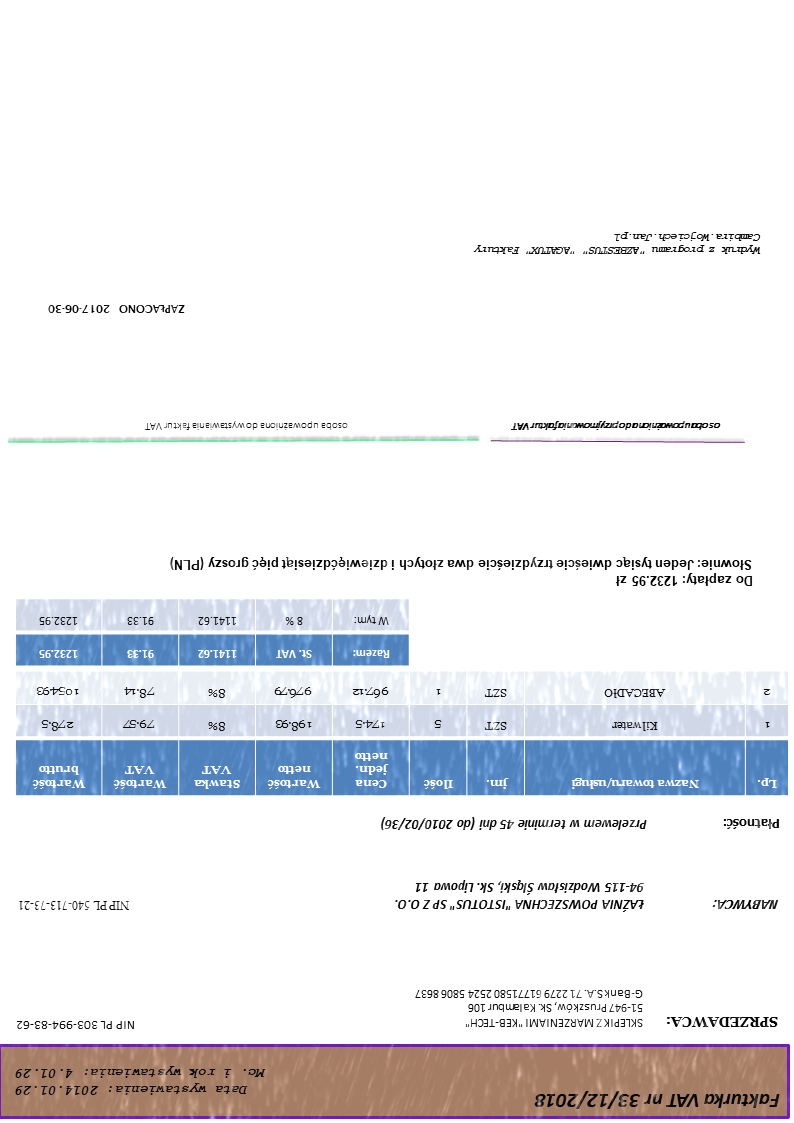Table: (15, 672, 791, 799), (15, 597, 412, 668)
TextBox: (167, 553, 756, 590), (413, 984, 646, 1033), (13, 1063, 270, 1100), (391, 878, 648, 914), (470, 229, 763, 260), (532, 1088, 784, 1115), (379, 816, 650, 833), (511, 418, 724, 435), (141, 419, 352, 434), (45, 300, 188, 318), (666, 1012, 782, 1032), (14, 1017, 138, 1035), (15, 897, 134, 915), (712, 895, 782, 913), (721, 815, 784, 833)
